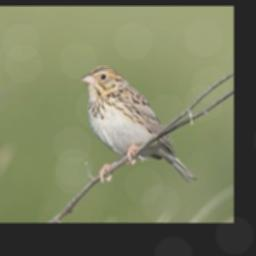Sparrow: (82, 64, 198, 182)
